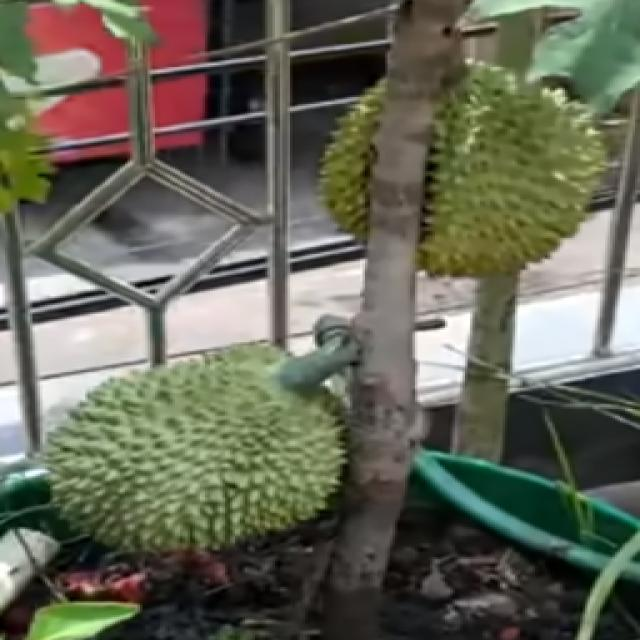immature: (37, 341, 378, 546), (322, 52, 620, 280)
